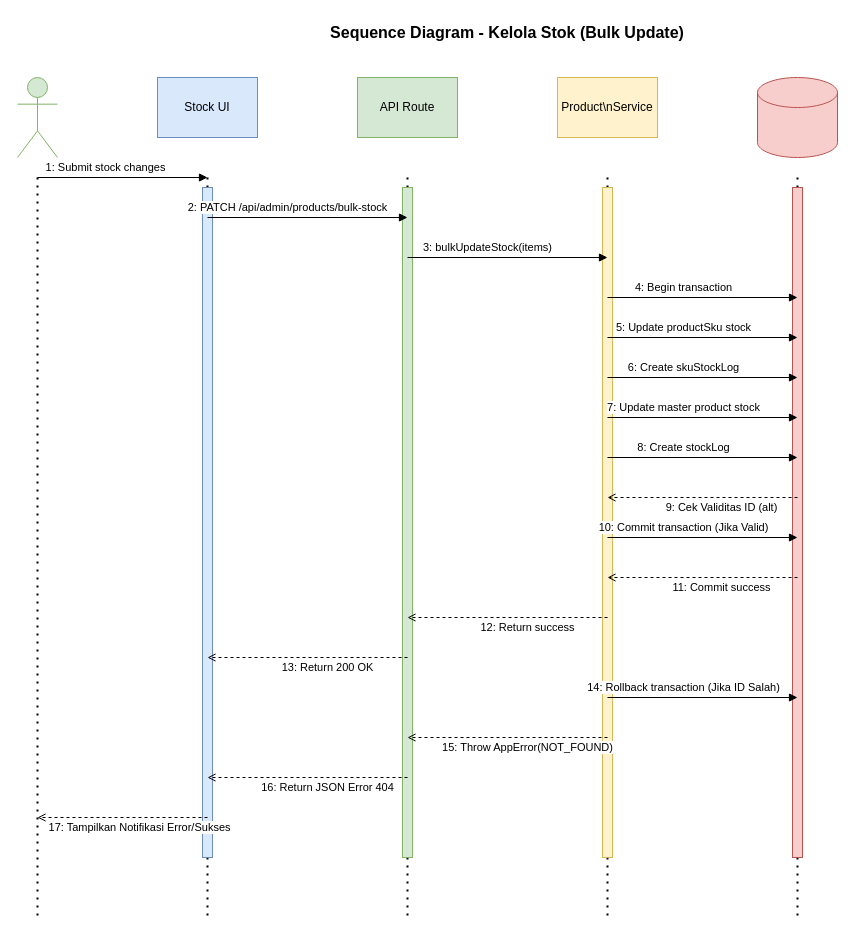
This 855x936 diagram has some shape labels left out. Here are the shapes that lost their labels. From the top down, the centre of each, then its label:
At (37,117): "Admin".
At (797,117): "Database".
